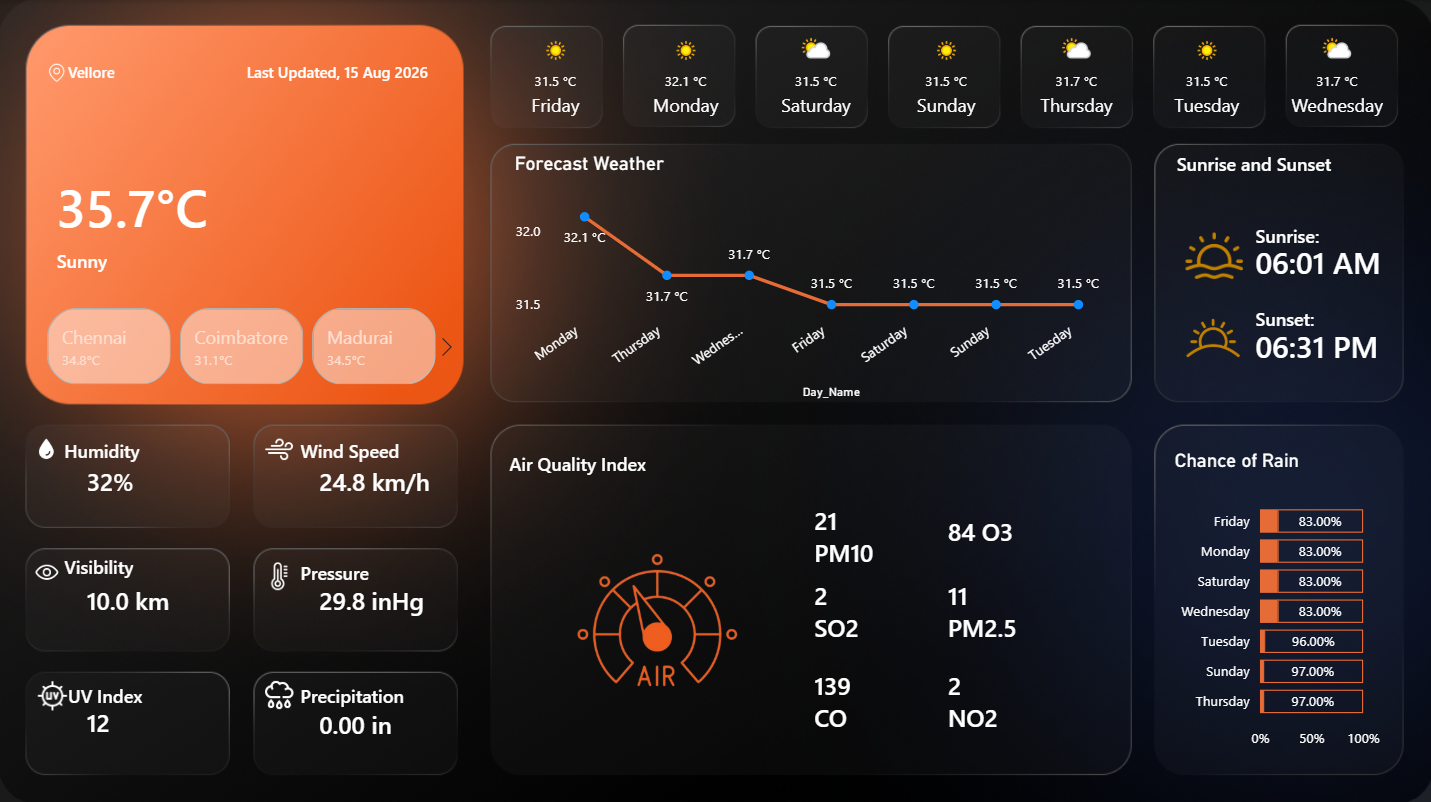

The dashboard page shown, as its layout file describes it:
{"tool":"powerbi","page":{"name":"Page 1","canvas":[1280,720],"ordinal":0},"visuals":[{"type":"advancedSlicerVisual","fields":{"Values":["Location.location.name"],"Label":["_Measures.Curr_temp_C"]},"box":[19.2,269,396.6,78.2],"z":0},{"type":"shape","box":[52.1,145.5,216.8,74.1],"z":1000},{"type":"shape","box":[52.1,194.9,216.8,74.1],"z":2000},{"type":"shape","box":[62.9,27.1,216.8,74.1],"z":3000},{"type":"shape","box":[221.4,45.7,234.3,36.4],"z":4000},{"type":"image","box":[26.7,56.7,51.7,15.8],"z":5000},{"type":"shape","box":[58.6,375.7,108.6,48.6],"z":6000},{"type":"image","box":[33.6,388.6,19.3,22.9],"z":7000},{"type":"image","box":[237.1,387.1,26.4,25.7],"z":8000},{"type":"shape","box":[269.3,375.7,108.6,48.6],"z":9000},{"type":"image","box":[26.4,497.1,33.6,24.3],"z":10000},{"type":"shape","box":[58.6,480,108.6,48.6],"z":11000},{"type":"image","box":[238.6,497.1,25,31.4],"z":12000},{"type":"shape","box":[269.3,485,108.6,48.6],"z":13000},{"type":"image","box":[34.3,594.3,27.9,50],"z":14000},{"type":"shape","box":[269.3,594.3,108.6,48.6],"z":15000},{"type":"shape","box":[62.9,594.3,108.6,48.6],"z":16000},{"type":"image","box":[235,602.9,31.4,31.4],"z":17000},{"type":"shape","box":[78.6,388.6,117.1,80],"z":18000},{"type":"shape","box":[285.7,388.6,207.1,80],"z":19000},{"type":"shape","box":[78.6,494.3,117.1,80],"z":20000},{"type":"shape","box":[285.7,494.3,117.1,80],"z":21000},{"type":"shape","box":[78.6,602.9,117.1,80],"z":22000},{"type":"shape","box":[285.7,604.3,117.1,80],"z":23000},{"type":"lineChart","title":"Forecast Weather","fields":{"Y":["Avg(Forecast.forecast.forecastday.day.avgtemp_c)"],"Category":["Forecast.Day_Name"]},"box":[455.7,135.7,541.4,224.3],"z":24000},{"type":"advancedSlicerVisual","fields":{"Values":["Forecast.Day_Name"]},"box":[437.1,22.9,817.1,98.6],"z":25000},{"type":"shape","box":[1050,121.7,158.3,48.3],"z":26000},{"type":"shape","box":[1120,207.8,160,50],"z":27000},{"type":"shape","box":[1120,281.1,115.6,52.2],"z":28000},{"type":"shape","box":[1120,184.4,158.3,48.3],"z":29000},{"type":"shape","box":[1120,256.7,122.2,52.2],"z":30000},{"type":"image","box":[1057.1,198.6,51.1,58.9],"z":31000},{"type":"image","box":[1050,268.9,64.4,63.3],"z":32000},{"type":"hundredPercentStackedBarChart","title":"Chance of Rain","fields":{"Y":["Sum(Forecast.forecast.forecastday.day.daily_chance_of_rain)","Current.Left_value_rain"],"Category":["Forecast.Day_Name"]},"box":[1042.9,400,192.9,275.7],"z":33000},{"type":"shape","box":[455.7,388.6,158.3,48.3],"z":33001},{"type":"shape","box":[727.1,437.1,75.7,80],"z":33002},{"type":"shape","box":[845.7,432.9,60,80],"z":33003},{"type":"shape","box":[727.1,504.3,54.3,80],"z":33004},{"type":"shape","box":[845.7,504.3,75.7,80],"z":33005},{"type":"shape","box":[727.1,584.3,54.3,80],"z":33006},{"type":"shape","box":[845.7,584.3,60,80],"z":33007},{"type":"image","box":[493.8,481.2,185,142.5],"z":33008}]}

Visuals, with their boxes in screenshot pixels (x1, y1, x2, y2), scaled from the page's 1280x720 canvas onto the 1431x802 screenshot:
advancedSlicerVisual - Location.location.name x _Measures.Curr_temp_C: select_region(21, 300, 465, 387)
shape: select_region(58, 162, 301, 245)
shape: select_region(58, 217, 301, 300)
shape: select_region(70, 30, 313, 113)
shape: select_region(248, 51, 509, 91)
image: select_region(30, 63, 88, 81)
shape: select_region(66, 418, 187, 473)
image: select_region(38, 433, 59, 458)
image: select_region(265, 431, 295, 460)
shape: select_region(301, 418, 422, 473)
image: select_region(30, 554, 67, 581)
shape: select_region(66, 535, 187, 589)
image: select_region(267, 554, 295, 589)
shape: select_region(301, 540, 422, 594)
image: select_region(38, 662, 70, 718)
shape: select_region(301, 662, 422, 716)
shape: select_region(70, 662, 192, 716)
image: select_region(263, 672, 298, 707)
shape: select_region(88, 433, 219, 522)
shape: select_region(319, 433, 551, 522)
shape: select_region(88, 551, 219, 640)
shape: select_region(319, 551, 450, 640)
shape: select_region(88, 672, 219, 761)
shape: select_region(319, 673, 450, 762)
"Forecast Weather" lineChart: select_region(509, 151, 1115, 401)
advancedSlicerVisual - Forecast.Day_Name: select_region(489, 26, 1402, 135)
shape: select_region(1174, 136, 1351, 189)
shape: select_region(1252, 231, 1430, 287)
shape: select_region(1252, 313, 1381, 371)
shape: select_region(1252, 205, 1429, 259)
shape: select_region(1252, 286, 1389, 344)
image: select_region(1182, 221, 1239, 287)
image: select_region(1174, 300, 1246, 370)
"Chance of Rain" hundredPercentStackedBarChart: select_region(1166, 446, 1382, 753)
shape: select_region(509, 433, 686, 487)
shape: select_region(813, 487, 898, 576)
shape: select_region(945, 482, 1013, 571)
shape: select_region(813, 562, 874, 651)
shape: select_region(945, 562, 1030, 651)
shape: select_region(813, 651, 874, 740)
shape: select_region(945, 651, 1013, 740)
image: select_region(552, 536, 759, 695)
